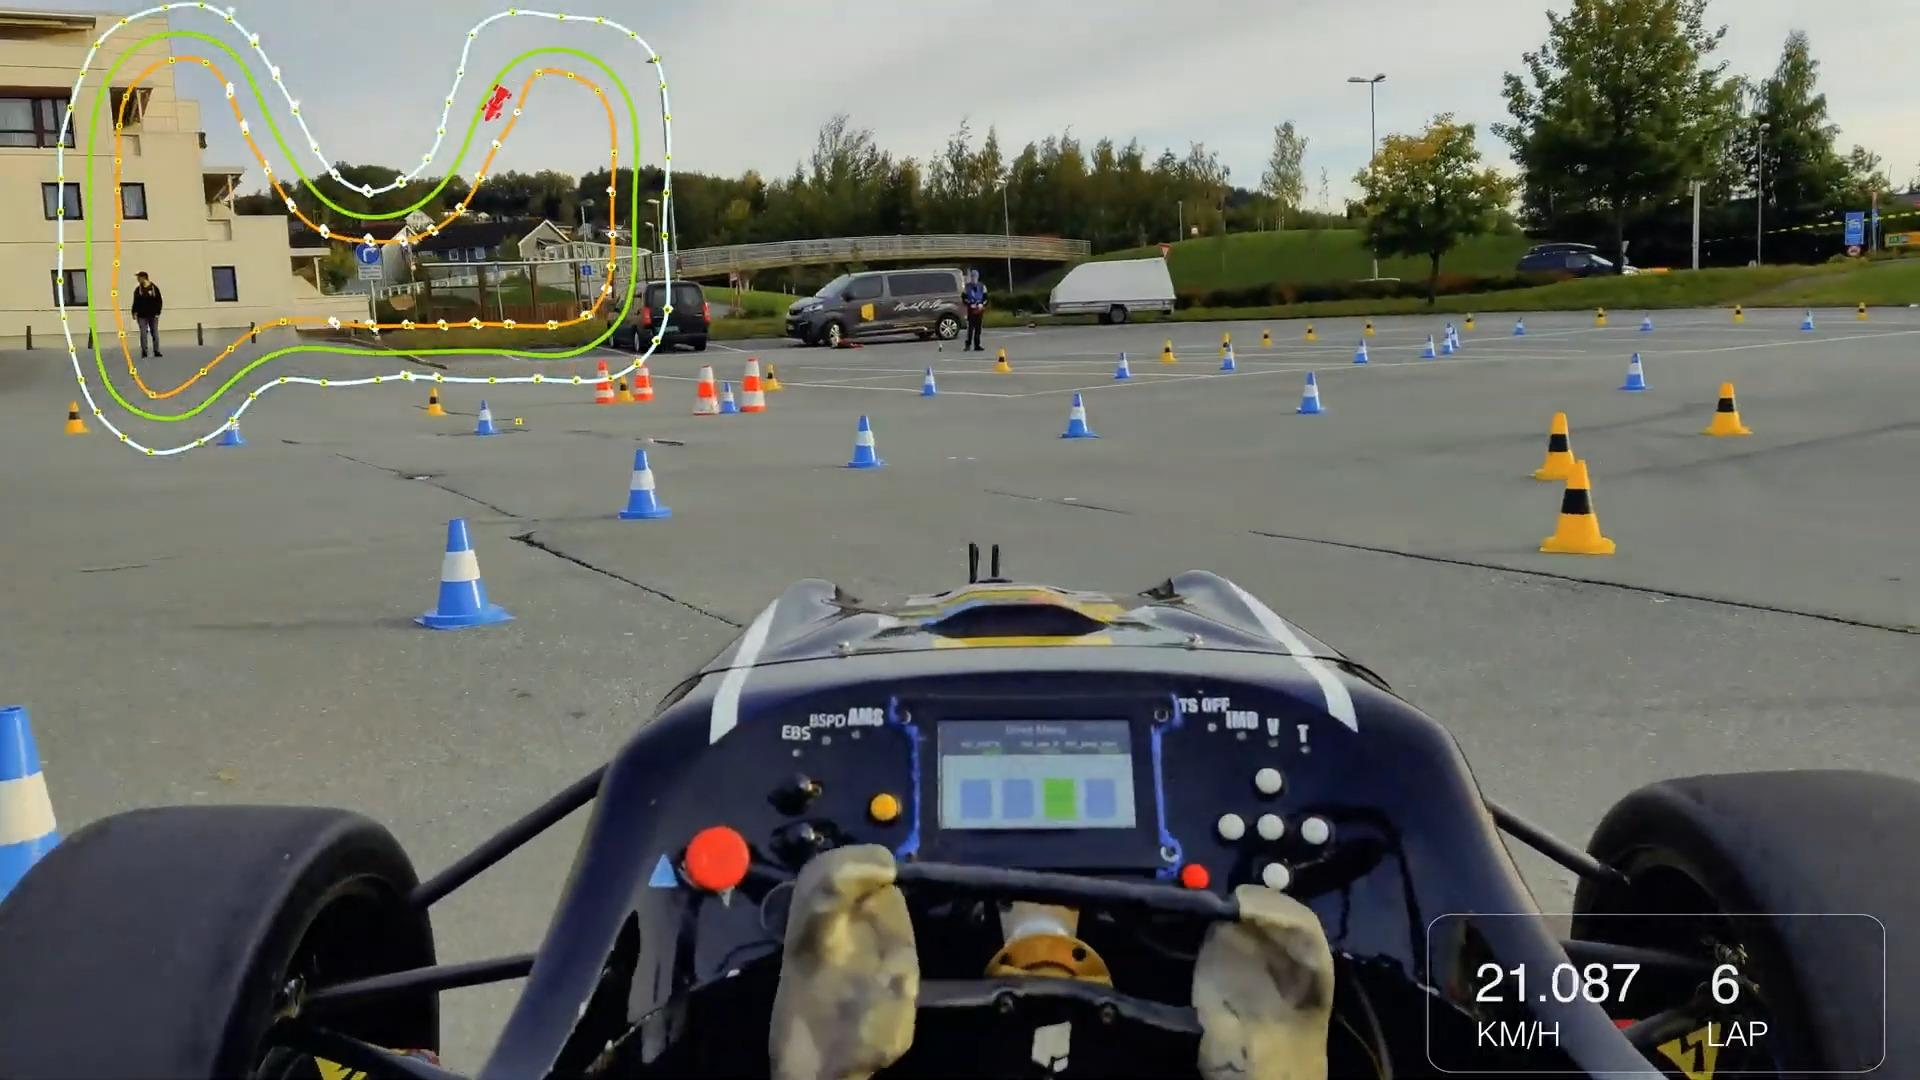blue_cone: (0, 700, 69, 852), (417, 516, 506, 628), (615, 447, 673, 525), (847, 410, 885, 471), (1060, 392, 1093, 443), (1295, 371, 1329, 418), (1621, 349, 1650, 394), (219, 410, 243, 447), (720, 380, 737, 419), (477, 398, 493, 436), (1114, 348, 1130, 380), (920, 367, 935, 400), (1354, 336, 1369, 368)
large_orange_cone: (737, 355, 765, 415), (694, 364, 719, 418), (630, 355, 651, 402), (592, 360, 611, 405)
yellow_cone: (1538, 462, 1615, 560), (1530, 414, 1582, 483), (1704, 378, 1749, 442), (63, 400, 86, 436), (992, 347, 1014, 375), (423, 384, 440, 417), (616, 373, 634, 404), (616, 371, 632, 405), (765, 364, 782, 390), (1160, 335, 1174, 364)
